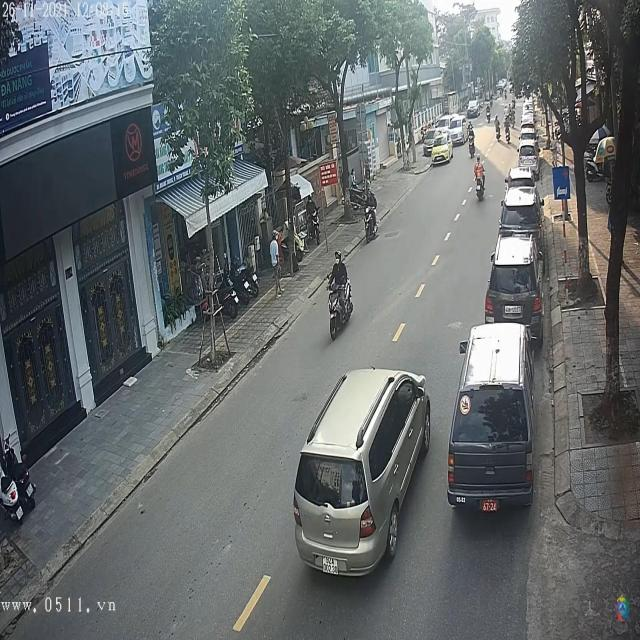car: (293, 368, 435, 578), (449, 325, 535, 510), (486, 236, 543, 332), (502, 185, 542, 229), (506, 168, 534, 190), (468, 99, 480, 117)
motorcycle: (328, 279, 354, 345), (364, 203, 379, 243)
